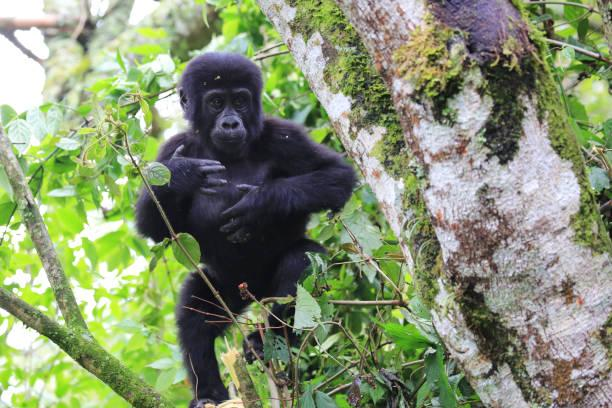goriile_montagne: (134, 40, 364, 387)
